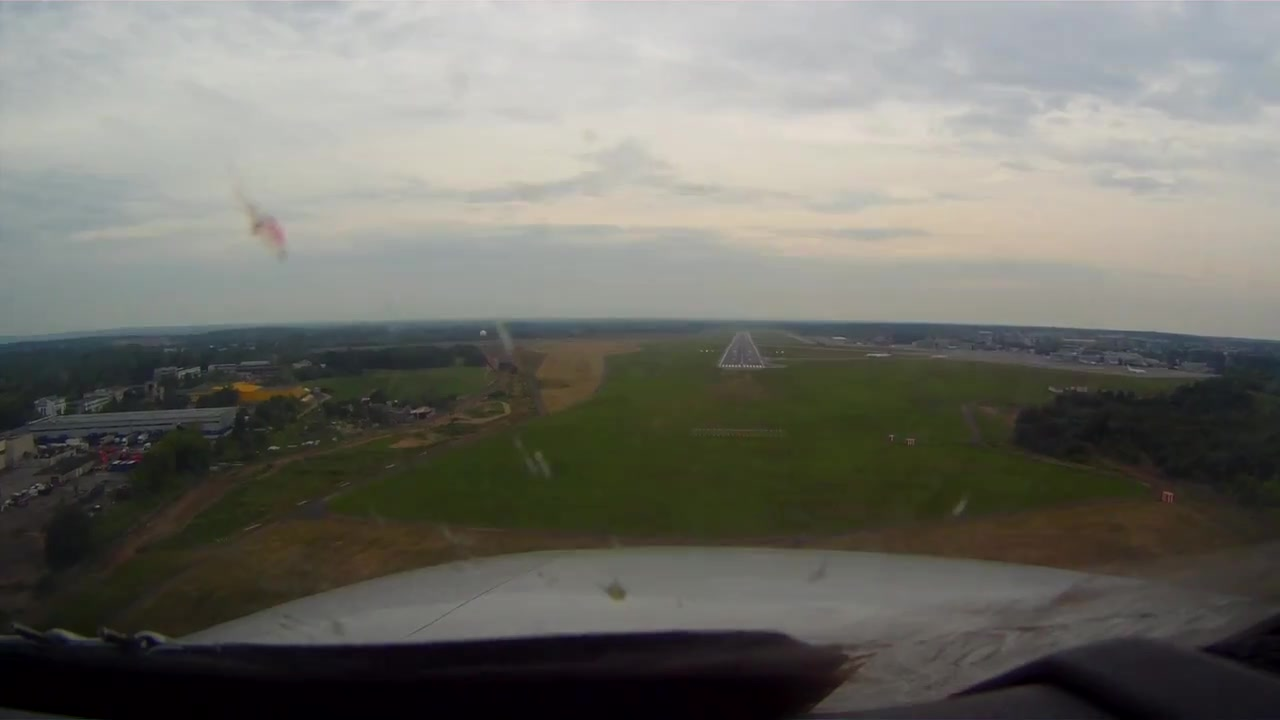entrance: (719, 363, 762, 371)
runway: (718, 331, 766, 373)
